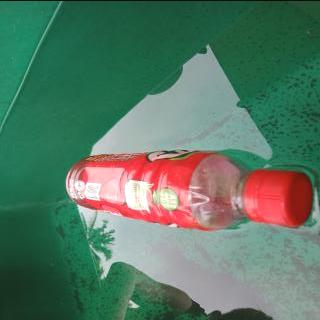bottle: (63, 149, 314, 231)
